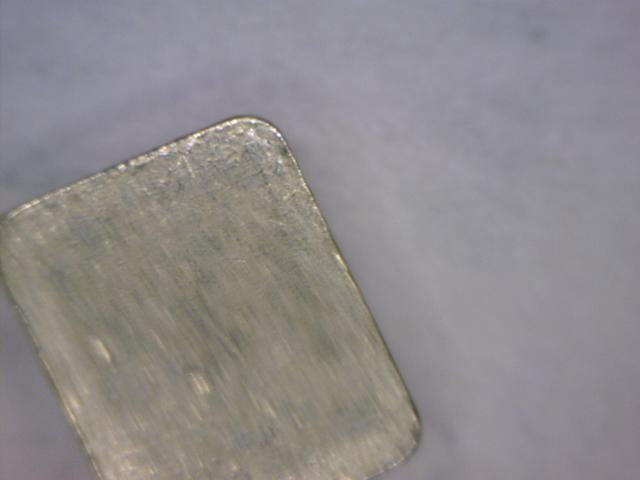ok: (3, 108, 443, 476)
